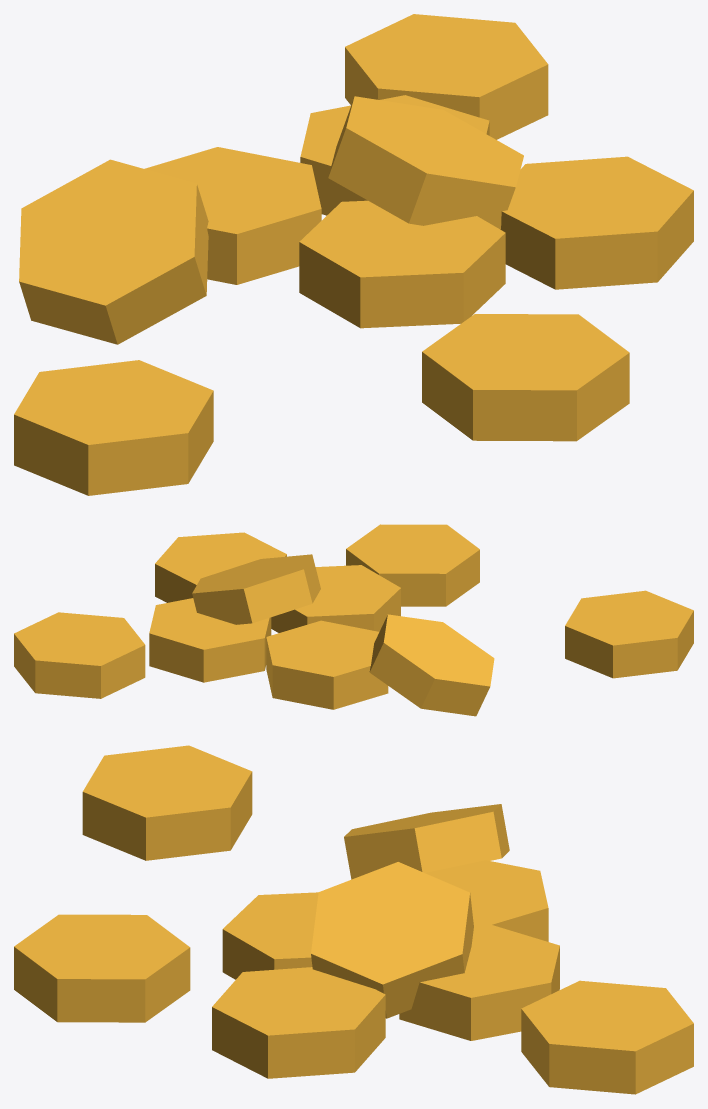
The model's file is coin bunch.fbx.
The picture shows the model from 3 angles, top to bottom: view 1: azimuth 30°, elevation 25°; view 2: azimuth 150°, elevation 25°; view 3: azimuth 270°, elevation 25°; orthographic projection. The views are drawn at different scales.
Visible parts, largest first — view 1: coins_bunch; view 2: coins_bunch; view 3: coins_bunch.
Part boxes in pixels (box(x1,y1,x2,y2)): coins_bunch: box(14, 14, 693, 495); coins_bunch: box(14, 524, 693, 716); coins_bunch: box(14, 745, 693, 1094).
Bounding box in the file's own units: 48.45 × 9.01 × 43.96.
